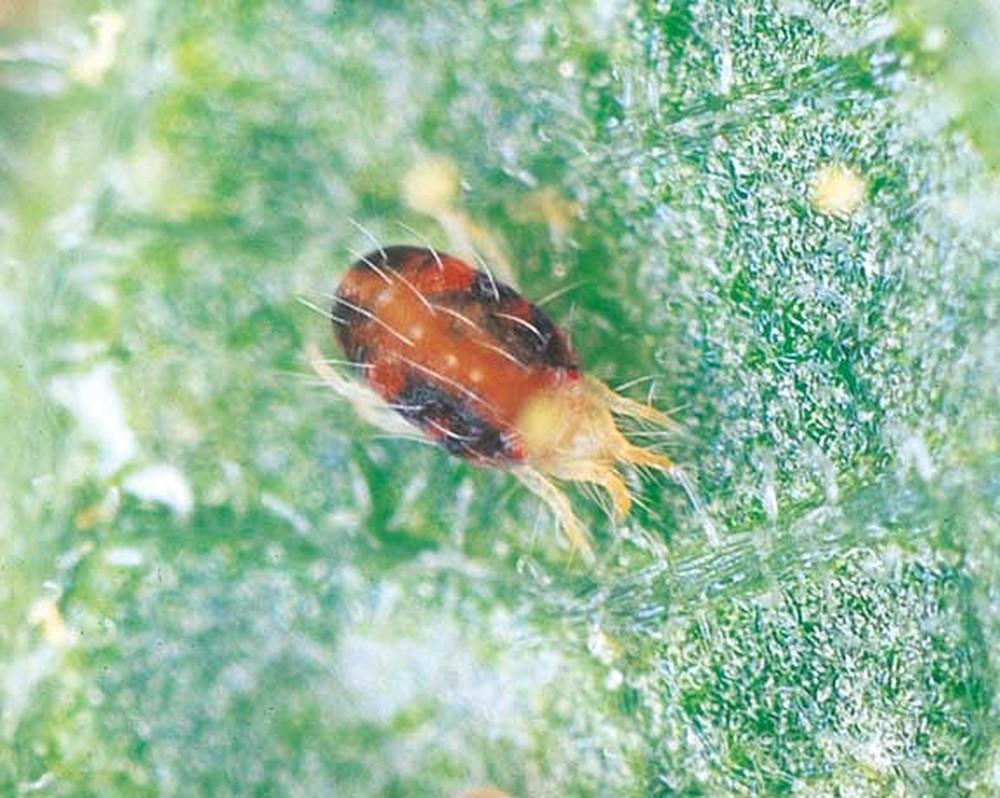Aracnido Rojo: (283, 185, 726, 582)
